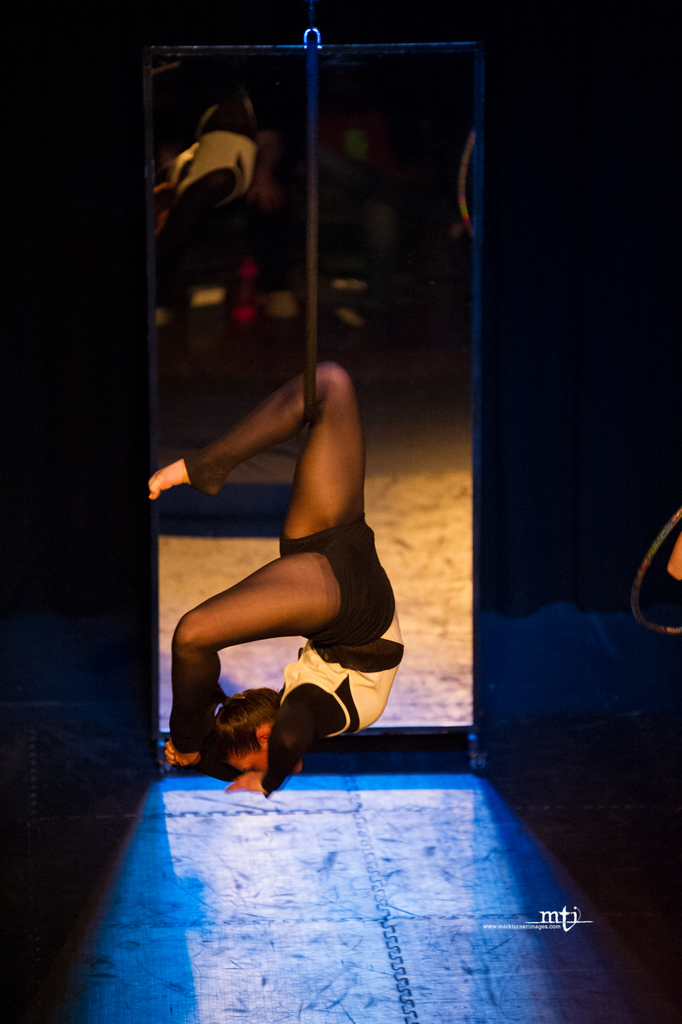person: (147, 363, 404, 794)
